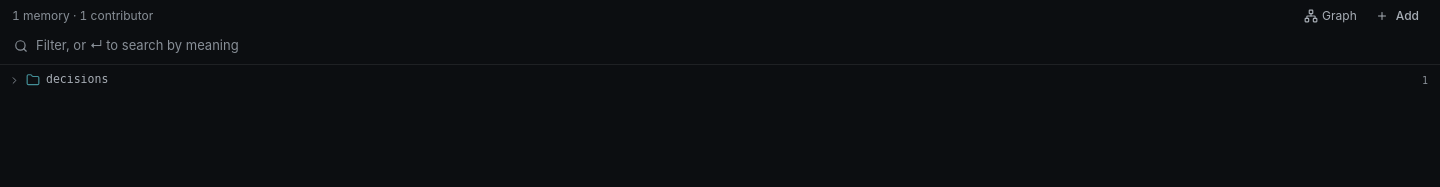
Test: <MemoryPanel /> preview hovercard › closes the preview once the pointer leaves the row
Click the button "decisions". click: (77,79)
box: [26,73,1416,87]
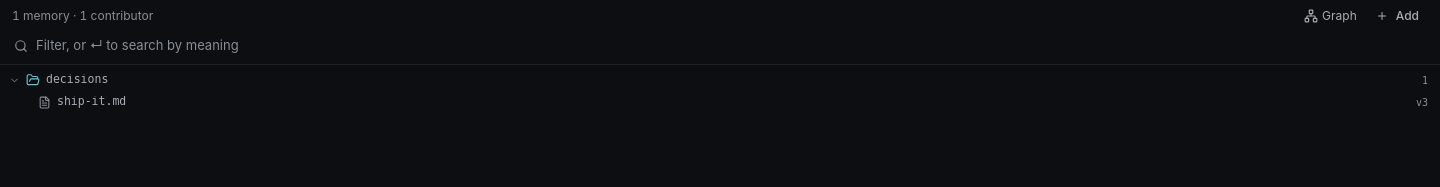
Hover over the text "ship-it.md" at (733,102), box [38,96,1428,108]
Wait 400 ms
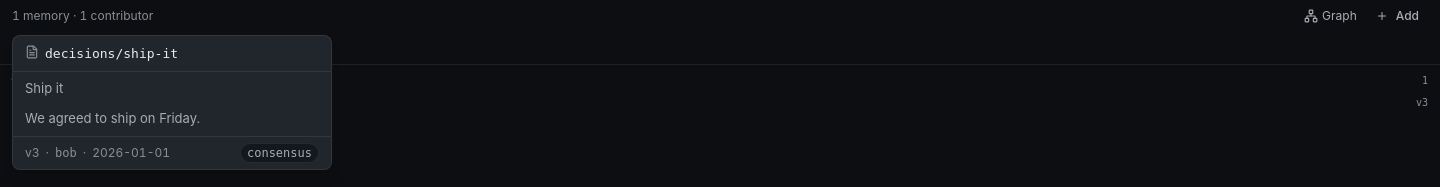
expect the tooltip with test id "memory-preview-card" is shown: met, box [12,34,332,170]
Move the pointer off the text "ship-it.md", box [38,96,1428,108]
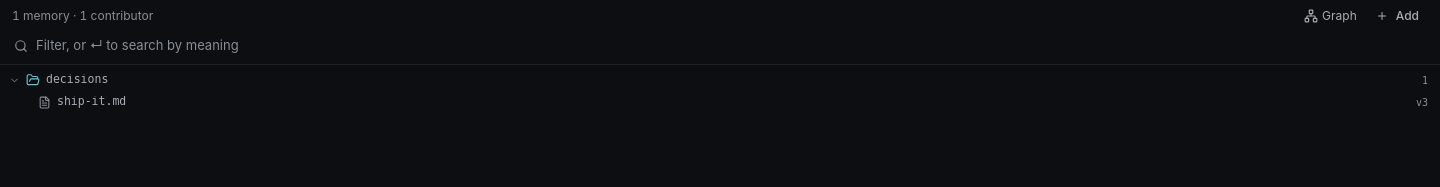
expect the tooltip with test id "memory-preview-card" is gone: met
